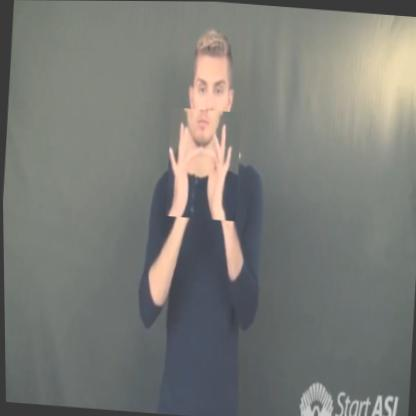Internet: (164, 107, 243, 221)
